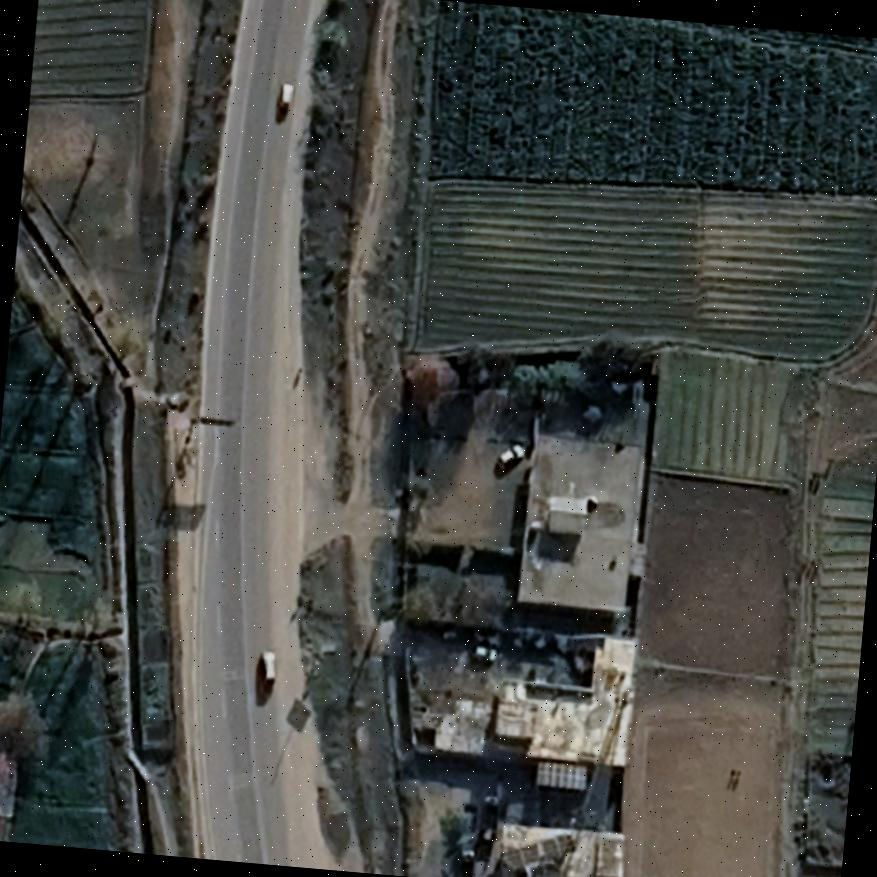Solarpanel: (501, 829, 578, 868), (531, 757, 592, 794)
